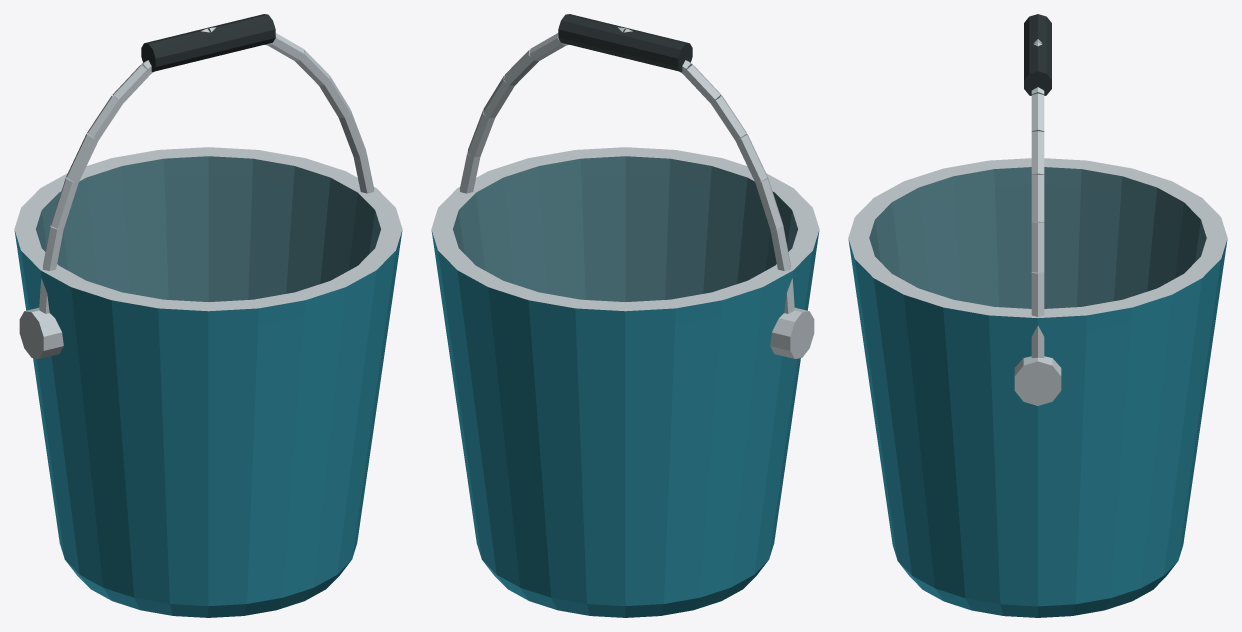
File: 09_bucket.glb
3 views of the same model, side by side, from view 1: azimuth 30°, elevation 25°; view 2: azimuth 150°, elevation 25°; view 3: azimuth 270°, elevation 25° (orthographic). The views are drawn at different scales.
Parts seen in each view (by area): view 1: 02_bucket; view 2: 02_bucket; view 3: 02_bucket.
Part boxes in pixels (x1,y1,x2,y2): 02_bucket: [14, 14, 402, 617]; 02_bucket: [431, 14, 819, 617]; 02_bucket: [848, 14, 1227, 617].
Bounding box in the file's own units: 0.324 × 0.4659 × 0.308.
